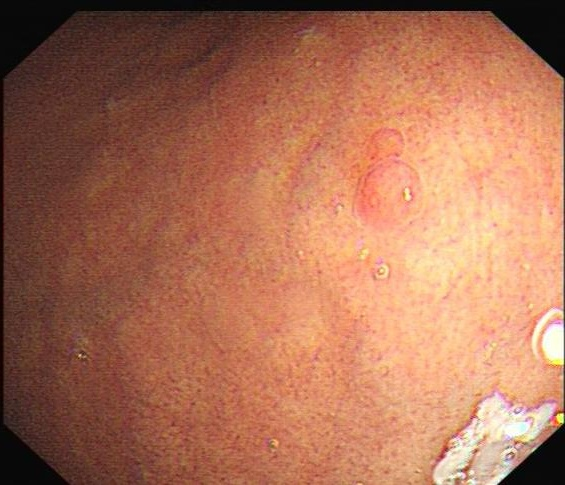Polyp: (352, 122, 427, 235)
